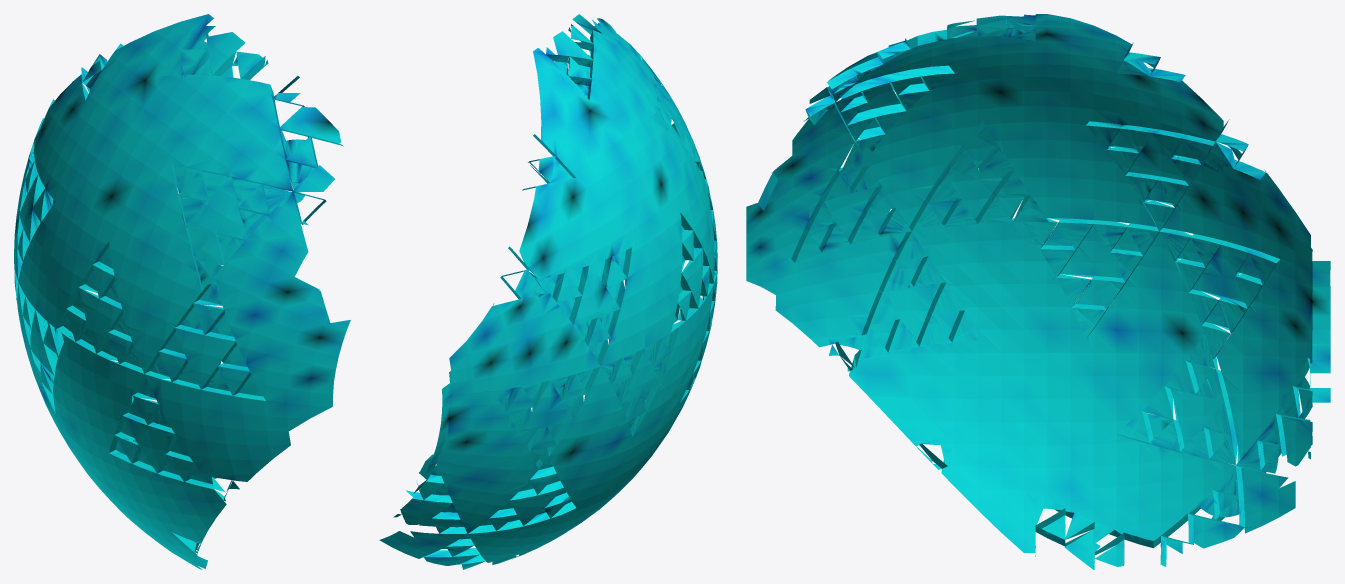
The picture shows the model from 3 angles, left to right: view 1: azimuth 30°, elevation 25°; view 2: azimuth 150°, elevation 25°; view 3: azimuth 270°, elevation 25°; orthographic projection. The views are drawn at different scales.
Bounding box in the file's own units: 0.3172 × 0.8294 × 0.7918.
